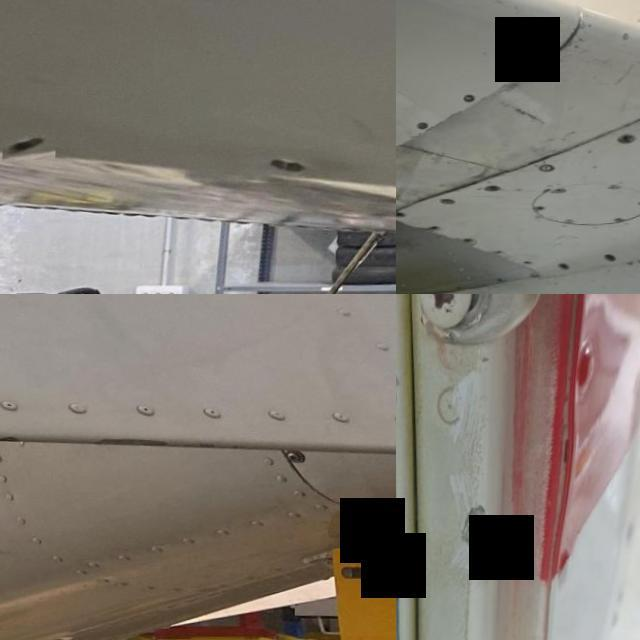Crack: (396, 294, 531, 613)
Missing_Fastener: (4, 131, 58, 162), (270, 155, 315, 186), (616, 136, 638, 151), (462, 95, 478, 106), (558, 264, 572, 276), (511, 66, 527, 76), (605, 256, 621, 266), (417, 122, 430, 134), (396, 212, 409, 221), (488, 187, 502, 194), (430, 225, 444, 232)
